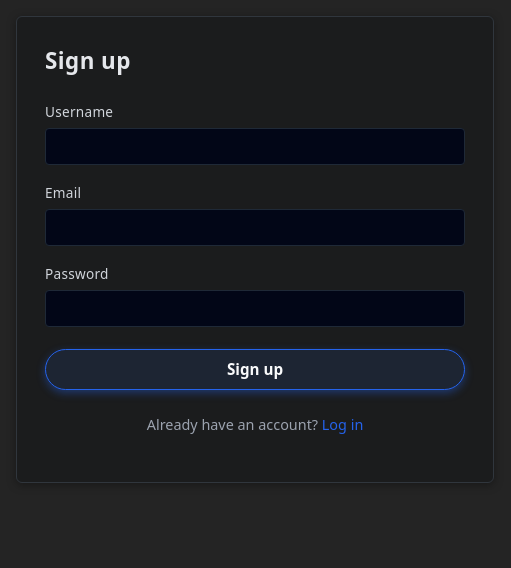
Test: Register Component › manage register failure
The image size is (511, 568).
Type "JaneDoe" into the field labelled "Username" at (255,147), box [45, 128, 465, 165]
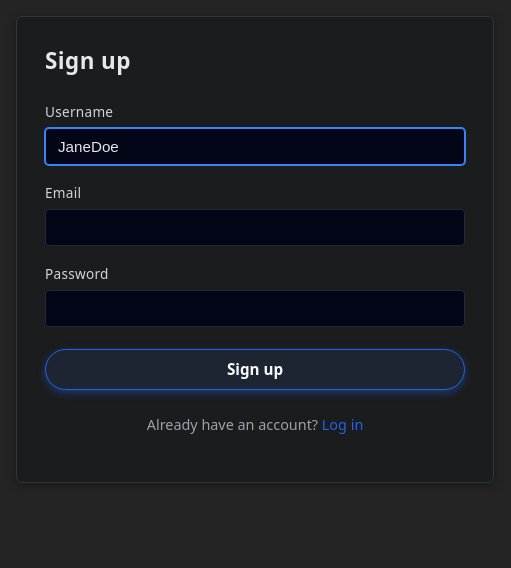
Type "exists@test.com" into the field labelled "Email" at (255,228), box [45, 209, 465, 246]
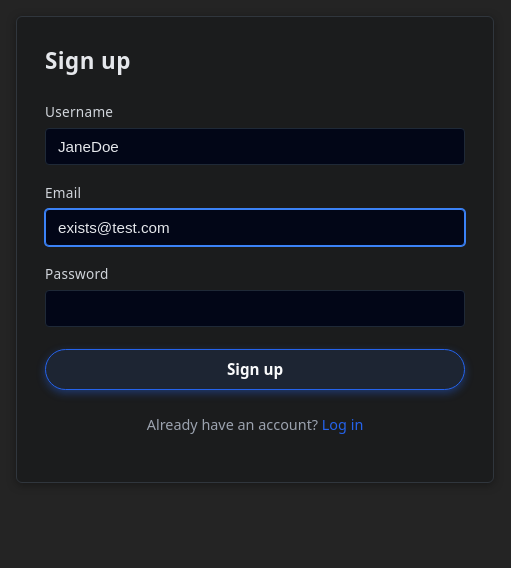
Type "secret123" into the password field labelled "Password" at (255,309), box [45, 290, 465, 327]
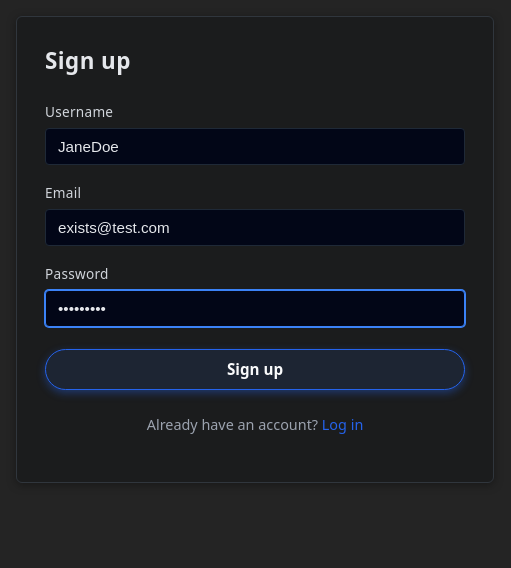
Click the button "Sign up" at (255,369), box [45, 348, 465, 390]
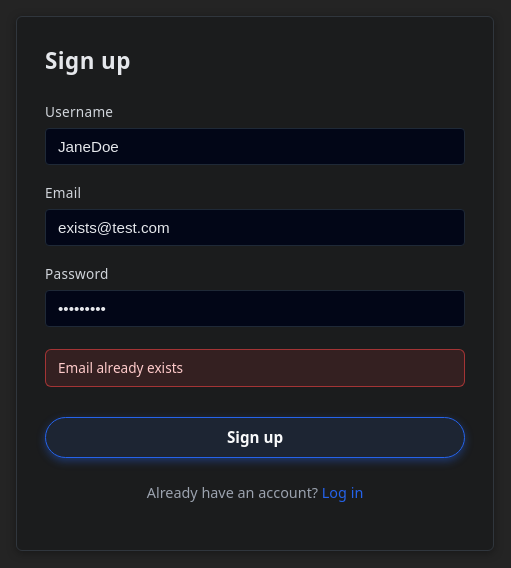
Check: the text "Email already exists" is shown, box [45, 348, 465, 387]
